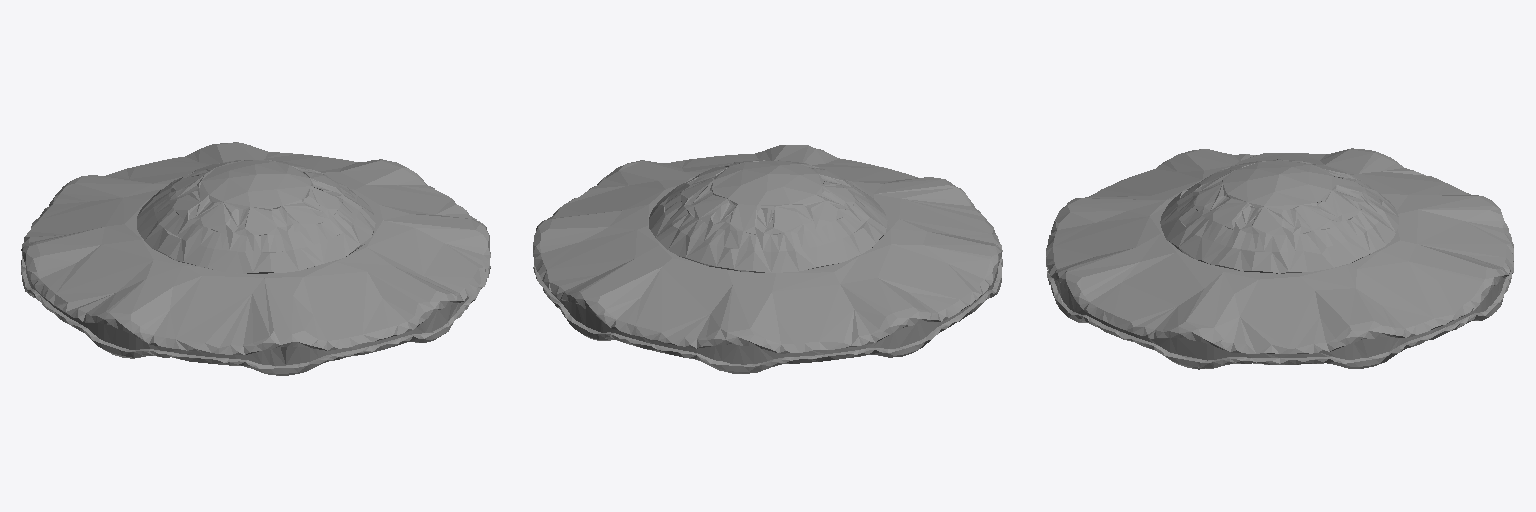
The model's file is frame_005.obj.
3 renders of one model, left to right at view 1: azimuth 30°, elevation 25°; view 2: azimuth 150°, elevation 25°; view 3: azimuth 270°, elevation 25°, orthographic.
Parts seen in each view (by area): view 1: 13884_UFO_Saucer_v1_l2; view 2: 13884_UFO_Saucer_v1_l2; view 3: 13884_UFO_Saucer_v1_l2.
Boxes of the visible parts, <box> form: 13884_UFO_Saucer_v1_l2: <box>21,142,490,375</box>; 13884_UFO_Saucer_v1_l2: <box>533,145,1002,373</box>; 13884_UFO_Saucer_v1_l2: <box>1046,148,1513,369</box>.
Bounding box in the file's own units: 12.69 × 4.88 × 12.7.